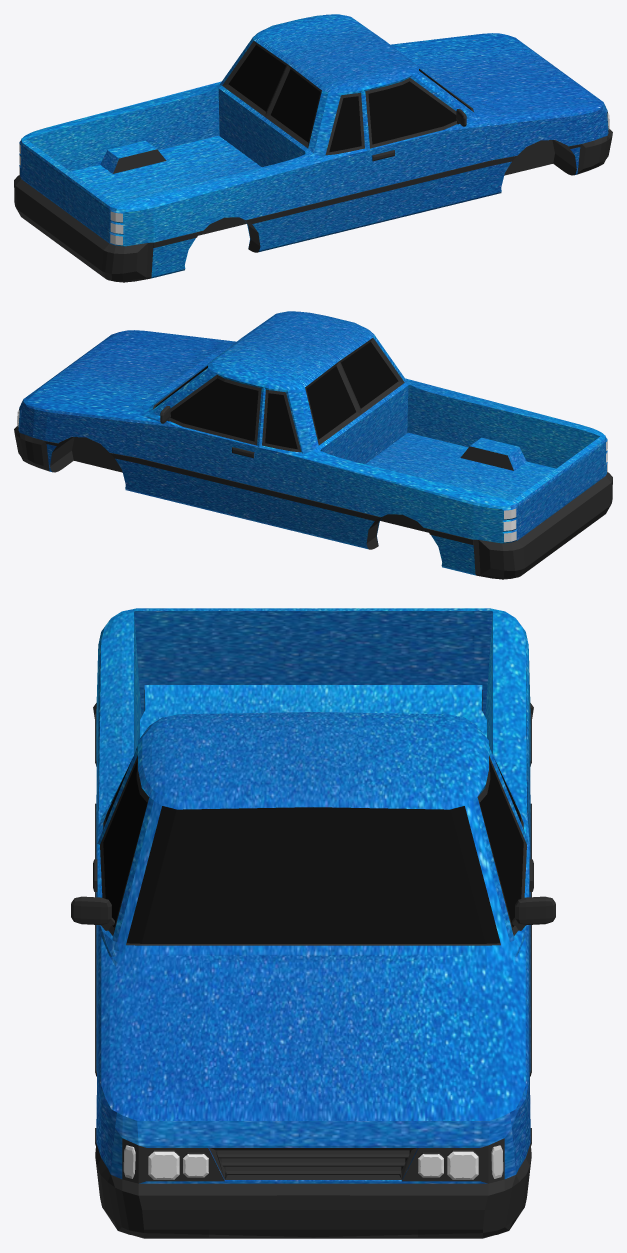
Rendered from VECHICLE_PICKUP_TRUCK.fbx.
The picture shows the model from 3 angles, top to bottom: view 1: azimuth 30°, elevation 25°; view 2: azimuth 150°, elevation 25°; view 3: azimuth 270°, elevation 25°; orthographic projection. The views are drawn at different scales.
Parts seen in each view (by area): view 1: VECHICLE_PICKUP_TRUCK; view 2: VECHICLE_PICKUP_TRUCK; view 3: VECHICLE_PICKUP_TRUCK.
Boxes of the visible parts, x1,y1,x2,y2 form: VECHICLE_PICKUP_TRUCK: (14, 14, 612, 282); VECHICLE_PICKUP_TRUCK: (14, 311, 612, 579); VECHICLE_PICKUP_TRUCK: (71, 608, 555, 1238).
Bounding box in the file's own units: 559 × 146 × 230.
